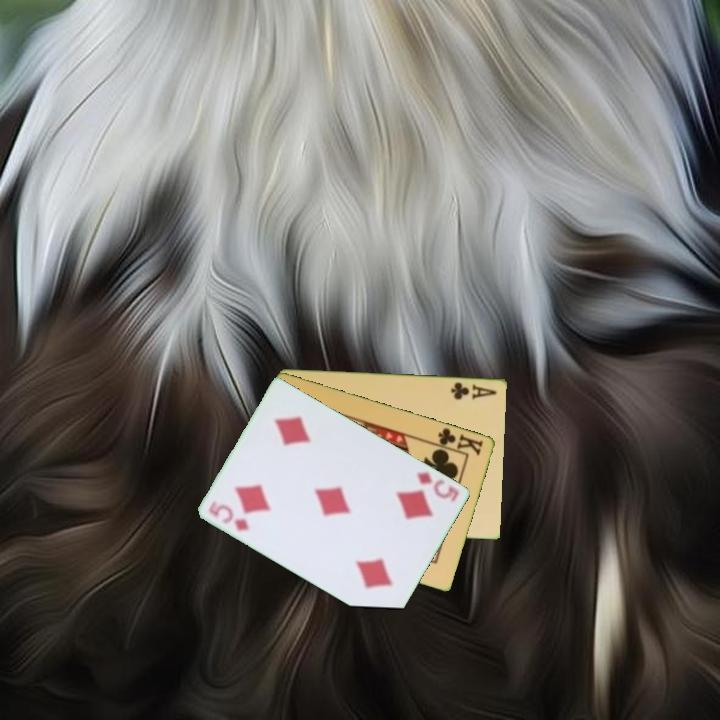5d: (205, 496, 252, 534), (414, 468, 462, 505)
Ac: (448, 378, 500, 402)
Kc: (430, 424, 486, 458)
